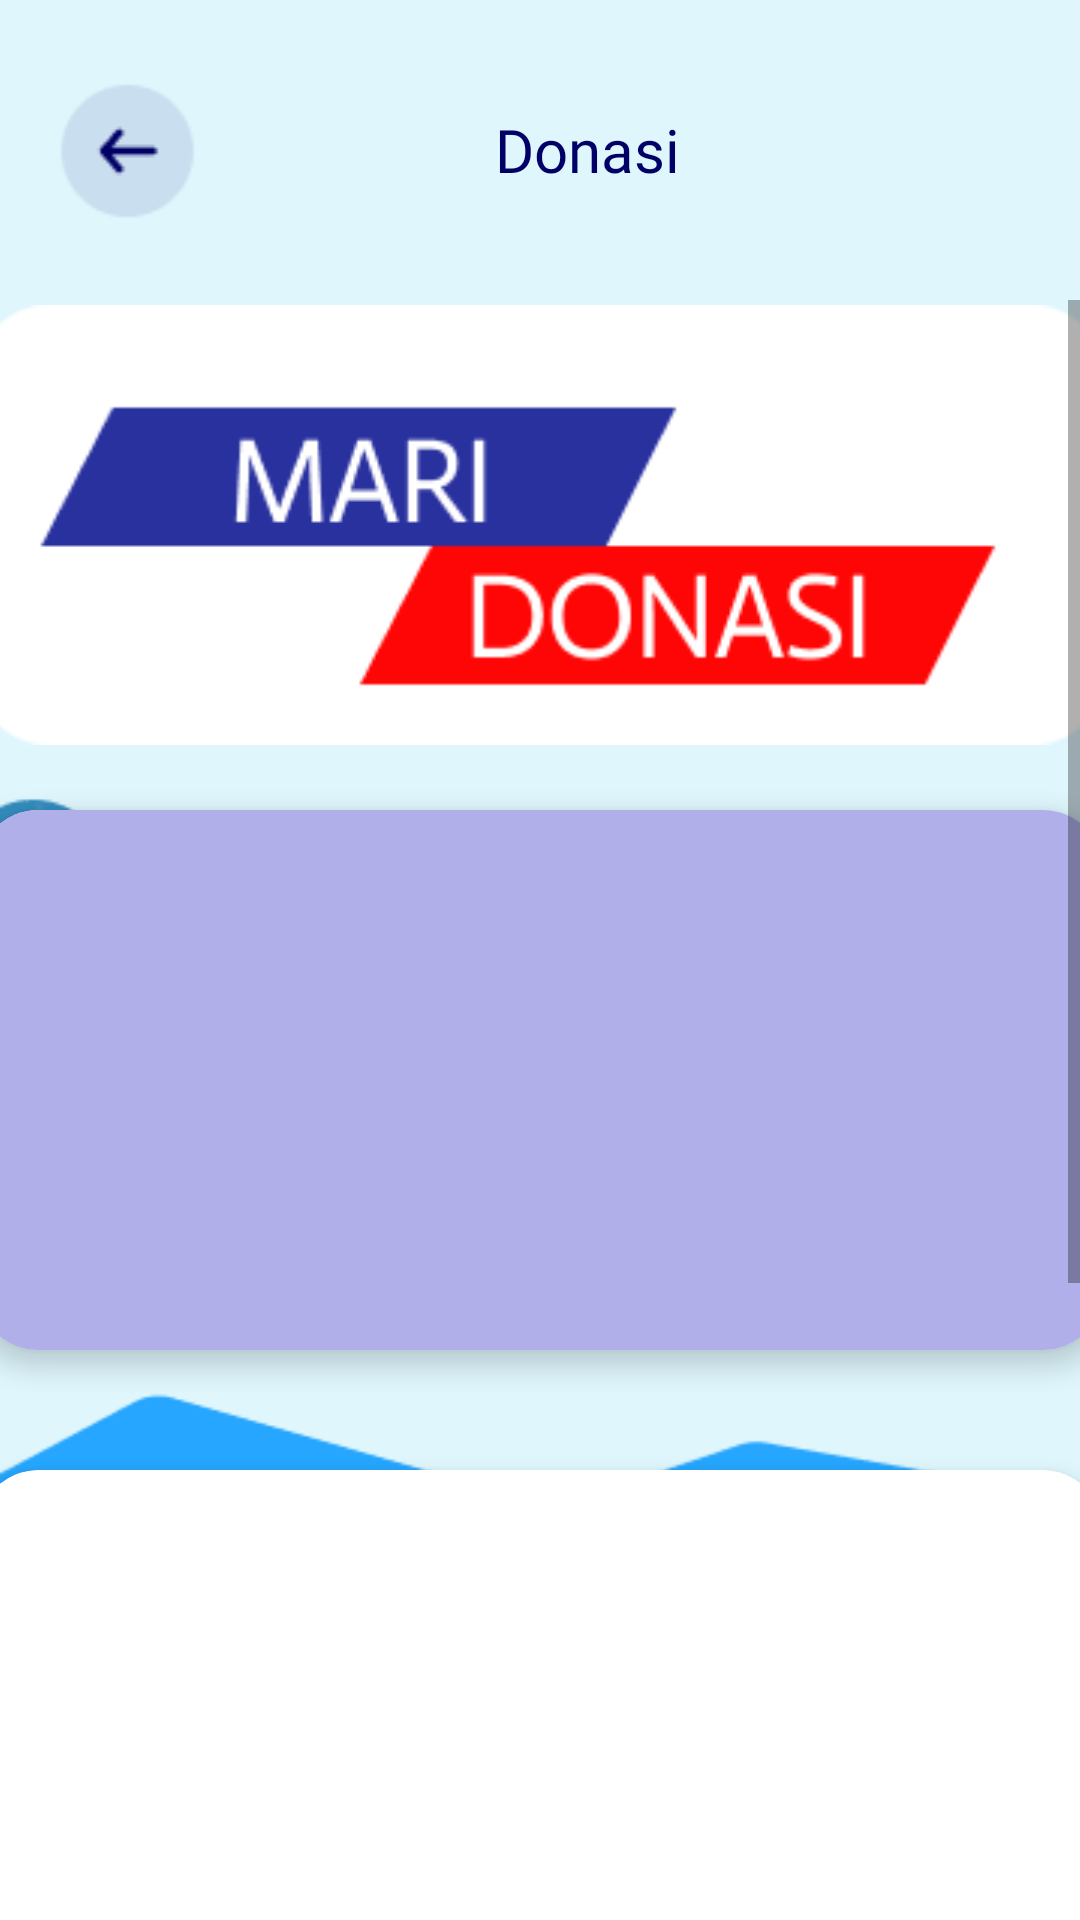

Icon click points for this 1080px x 1920px phone screenshot, format (x,y):
back: (127,151)
